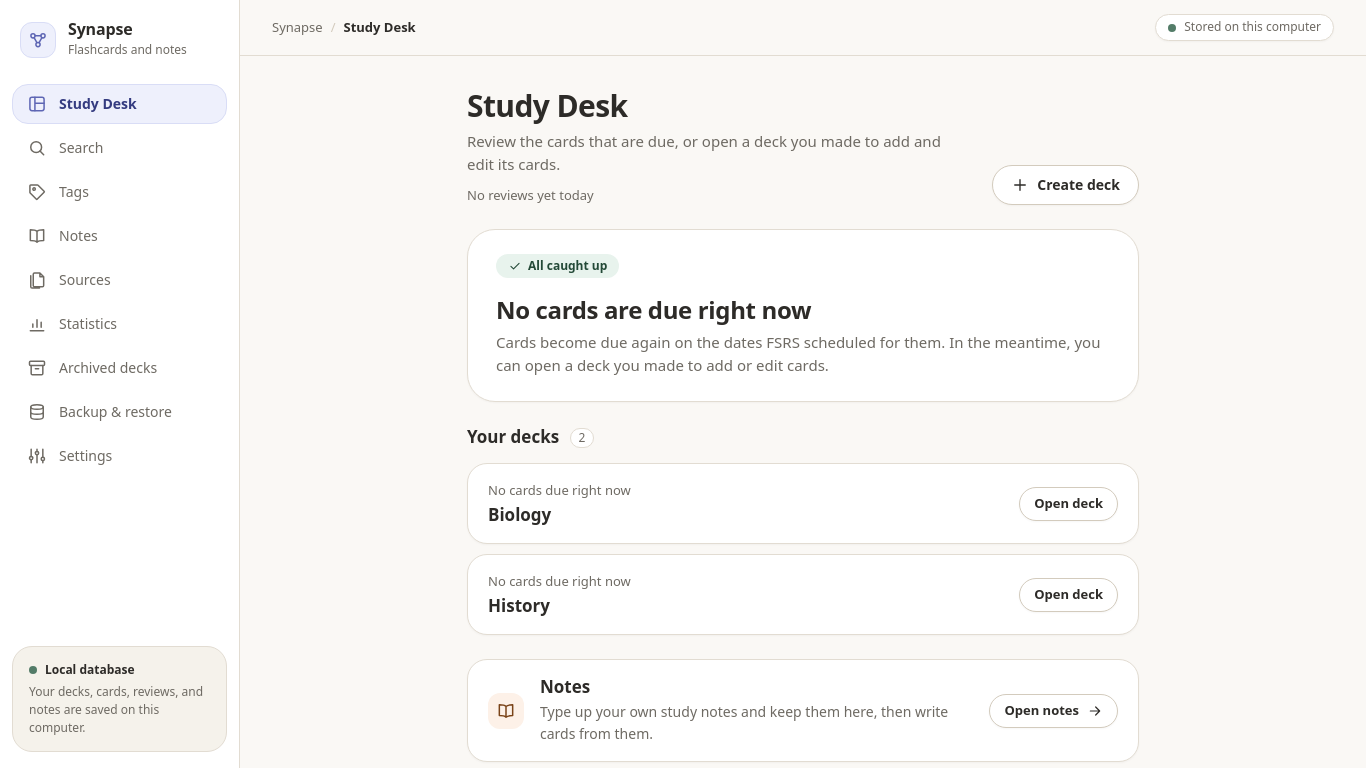
the Search screen › is in the sidebar, and its field takes focus
The width and height of the screenshot is (1366, 768).
Step 1. Click the button "Search" → (120, 148), box [12,128,227,168]
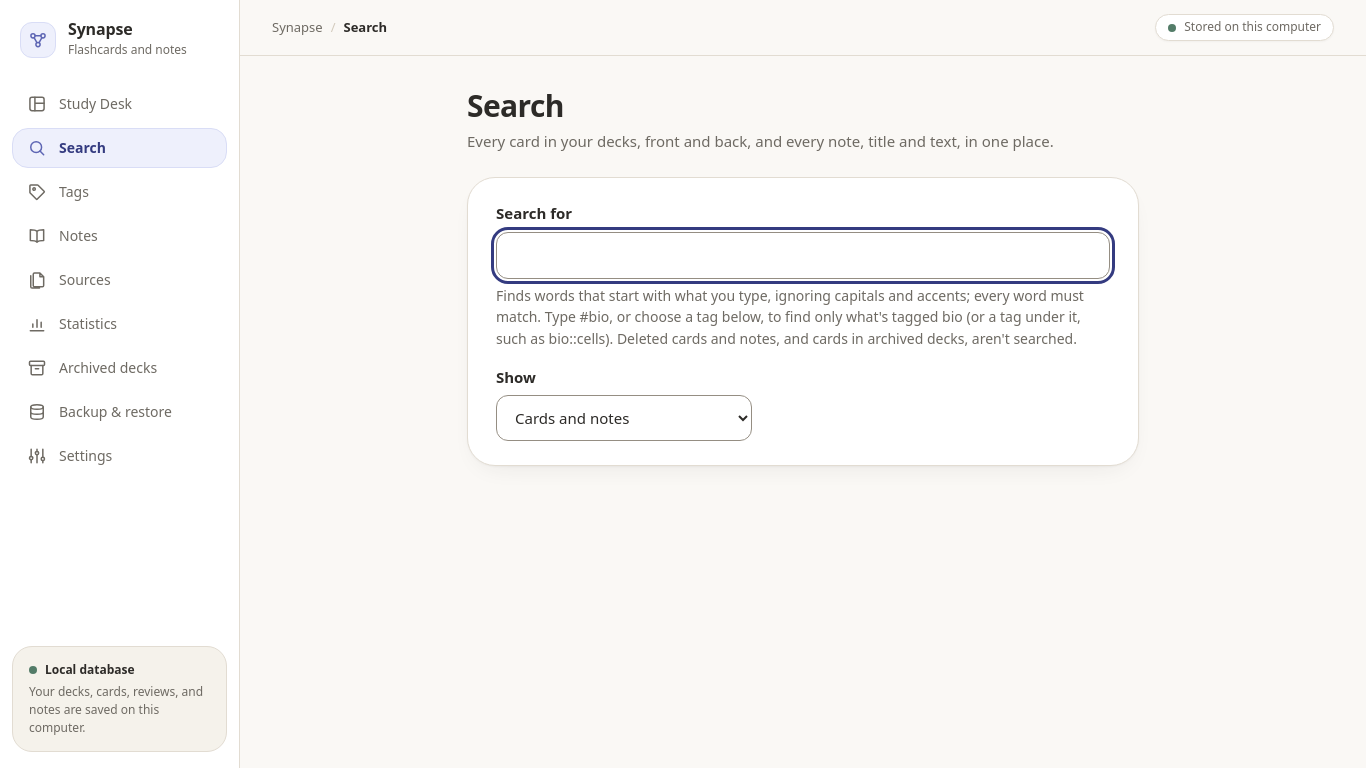
Expected: the heading "Search" is shown, [467,85,564,126]
